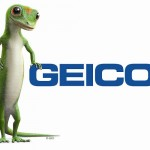geico: (29, 62, 149, 88)
